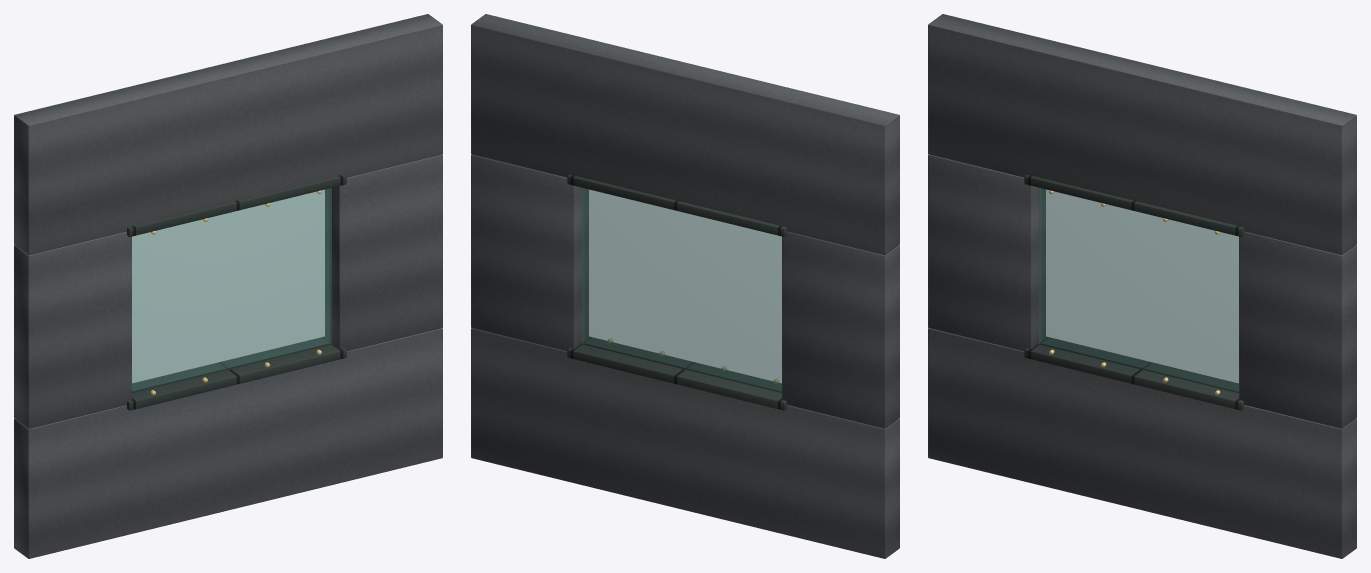
The model's file is WK_WALL_WINDOW_A_01.glb.
The picture shows the model from 3 angles, left to right: view 1: azimuth 30°, elevation 25°; view 2: azimuth 150°, elevation 25°; view 3: azimuth 330°, elevation 25°; orthographic projection.
Parts seen in each view (by area): view 1: WK_WALL_WINDOW_A_01; view 2: WK_WALL_WINDOW_A_01; view 3: WK_WALL_WINDOW_A_01.
Part boxes in pixels (bbox=[...]): WK_WALL_WINDOW_A_01: bbox=[14, 14, 442, 558]; WK_WALL_WINDOW_A_01: bbox=[471, 14, 899, 558]; WK_WALL_WINDOW_A_01: bbox=[928, 14, 1356, 558].
Bounding box in the file's own units: 4 × 4 × 0.32.
Materials: 4 (2 with a texture image).
